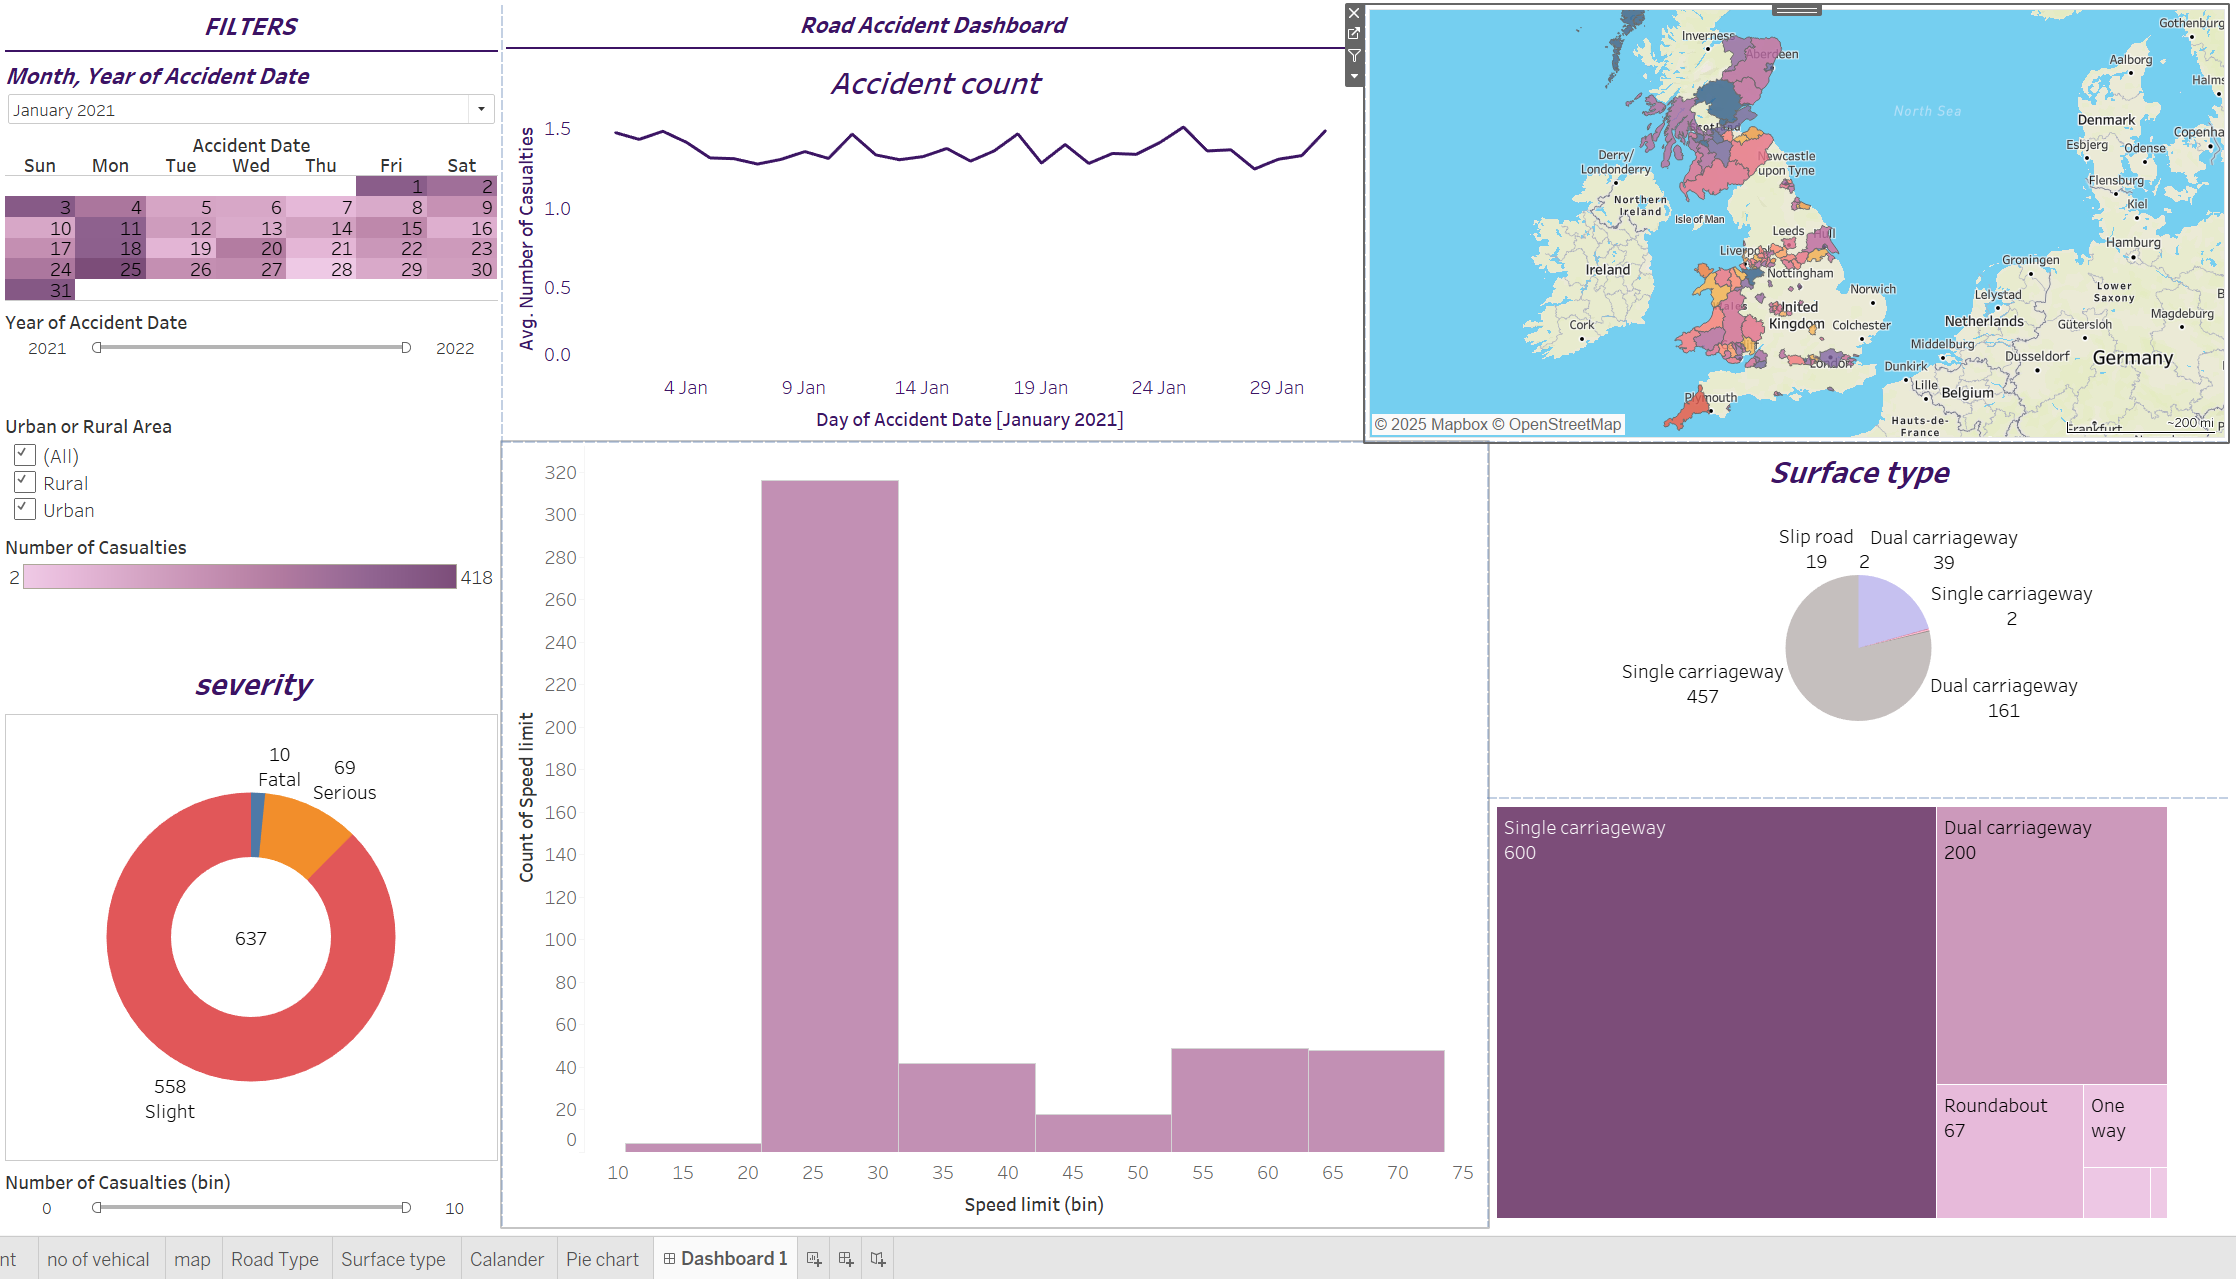

This screenshot's page, from the dashboard's own definition file:
{"tool":"tableau","page":{"name":"Dashboard 1","canvas":[1000,1000],"units":"permille","ordinal":0},"visuals":[{"type":"text","box":[3.6,6.5,223.1,33.1]},{"type":"text","box":[226.7,6.5,384.9,30.7]},{"type":"worksheet","title":"map","mark":"Automatic","box":[611.6,6.5,384.9,353]},{"type":"blank","box":[226.7,37.1,384.9,8.1]},{"type":"blank","box":[3.6,39.6,223.1,8.1]},{"type":"worksheet","title":"Rate of accident ","mark":"Automatic","rows":["Number_of_Casualties"],"cols":["Accident Date"],"box":[226.7,45.2,384.9,314.2]},{"type":"filter","title":"Calander","param":"[federated.0xb8v7r0uw2pyw1al9fh81khrad1].[my:Accident Date:ok]","box":[3.6,47.7,223.1,60.6]},{"type":"worksheet","title":"Calander","mark":"Square","rows":["Accident Date"],"cols":["Accident Date"],"box":[3.6,108.2,223.1,140.6]},{"type":"filter","title":"Calander","param":"[federated.0xb8v7r0uw2pyw1al9fh81khrad1].[yr:Accident Date:qk]","box":[3.6,248.8,223.1,84]},{"type":"filter","title":"Calander","param":"[federated.0xb8v7r0uw2pyw1al9fh81khrad1].[none:Urban_or_Rural_Area:nk]","box":[3.6,332.8,223.1,97.7]},{"type":"worksheet","title":"no of vehical","mark":"Automatic","rows":["Speed_limit"],"cols":["Speed limit (bin)"],"box":[226.7,359.4,439.6,634.1]},{"type":"worksheet","title":"Surface type","mark":"Pie","box":[666.4,359.4,330.1,287.6]},{"type":"legend","title":"Road Type","param":"[federated.0xb8v7r0uw2pyw1al9fh81khrad1].[sum:Number_of_Casualties:qk]","box":[3.6,430.5,223.1,100.2]},{"type":"worksheet","title":"Pie chart","mark":"Pie","rows":["Calculation_1961036173934202881","Calculation_1961036173934202881"],"box":[3.6,530.7,223.1,412.8]},{"type":"worksheet","title":"Road Type","mark":"Automatic","box":[666.4,647,330.1,346.5]},{"type":"filter","title":"Pie chart","param":"[federated.0xb8v7r0uw2pyw1al9fh81khrad1].[none:Number of Casualties (bin):qk]","box":[3.6,943.5,223.1,50.1]}]}

Visuals, with their boxes on the dashboard's canvas, which has no fixed pixel size, in thousandths of its width and height (x1, y1, x2, y2). These are canvas units, not pixel positions in the 2236x1279 screenshot, which may show the page scaled, cropped or inside an application window:
text: bbox(4, 6, 227, 40)
text: bbox(227, 6, 612, 37)
"map" worksheet: bbox(612, 6, 996, 360)
blank: bbox(227, 37, 612, 45)
blank: bbox(4, 40, 227, 48)
"Rate of accident " worksheet: bbox(227, 45, 612, 359)
"Calander" filter: bbox(4, 48, 227, 108)
"Calander" worksheet (Square marks): bbox(4, 108, 227, 249)
"Calander" filter: bbox(4, 249, 227, 333)
"Calander" filter: bbox(4, 333, 227, 430)
"no of vehical" worksheet: bbox(227, 359, 666, 994)
"Surface type" worksheet (Pie marks): bbox(666, 359, 996, 647)
"Road Type" legend: bbox(4, 430, 227, 531)
"Pie chart" worksheet (Pie marks): bbox(4, 531, 227, 944)
"Road Type" worksheet: bbox(666, 647, 996, 994)
"Pie chart" filter: bbox(4, 944, 227, 994)
